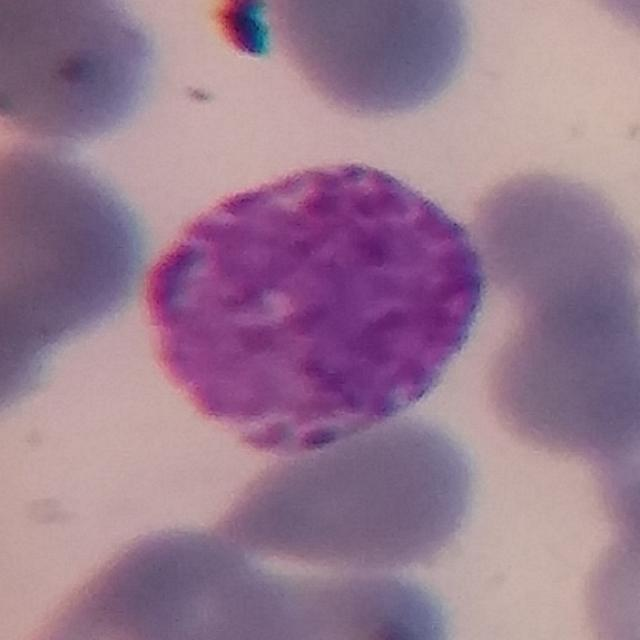Basophil: (136, 145, 494, 467)
Platelets: (205, 0, 284, 61)
RBC: (236, 405, 489, 578), (0, 152, 161, 408), (462, 162, 640, 323), (54, 520, 288, 640), (258, 0, 480, 125), (493, 283, 640, 454), (0, 0, 166, 145), (265, 560, 461, 640), (583, 402, 640, 553), (573, 522, 640, 640), (570, 0, 640, 50)
